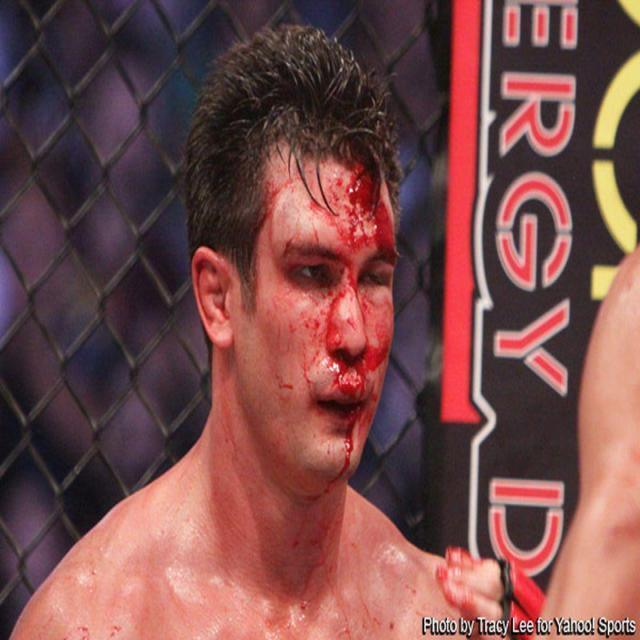flood: (342, 170, 396, 255)
